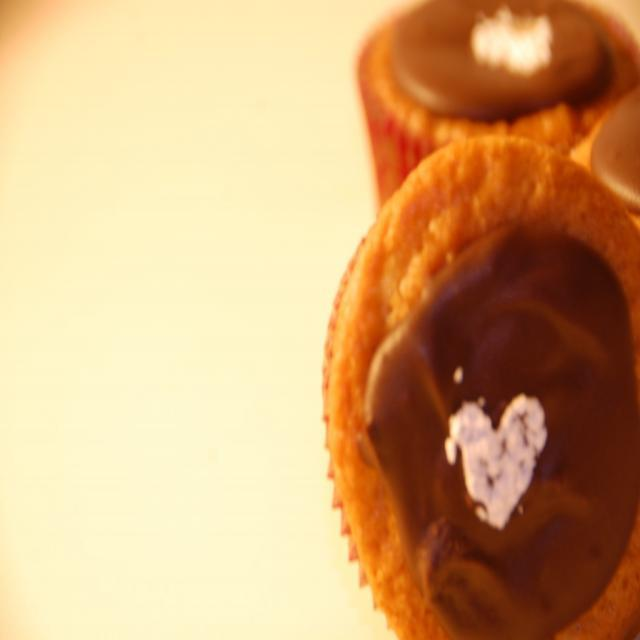Muffin: (320, 134, 640, 638), (357, 0, 639, 215), (570, 84, 640, 225)
